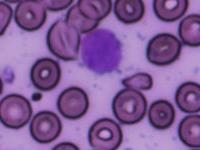L: (77, 26, 126, 76)
